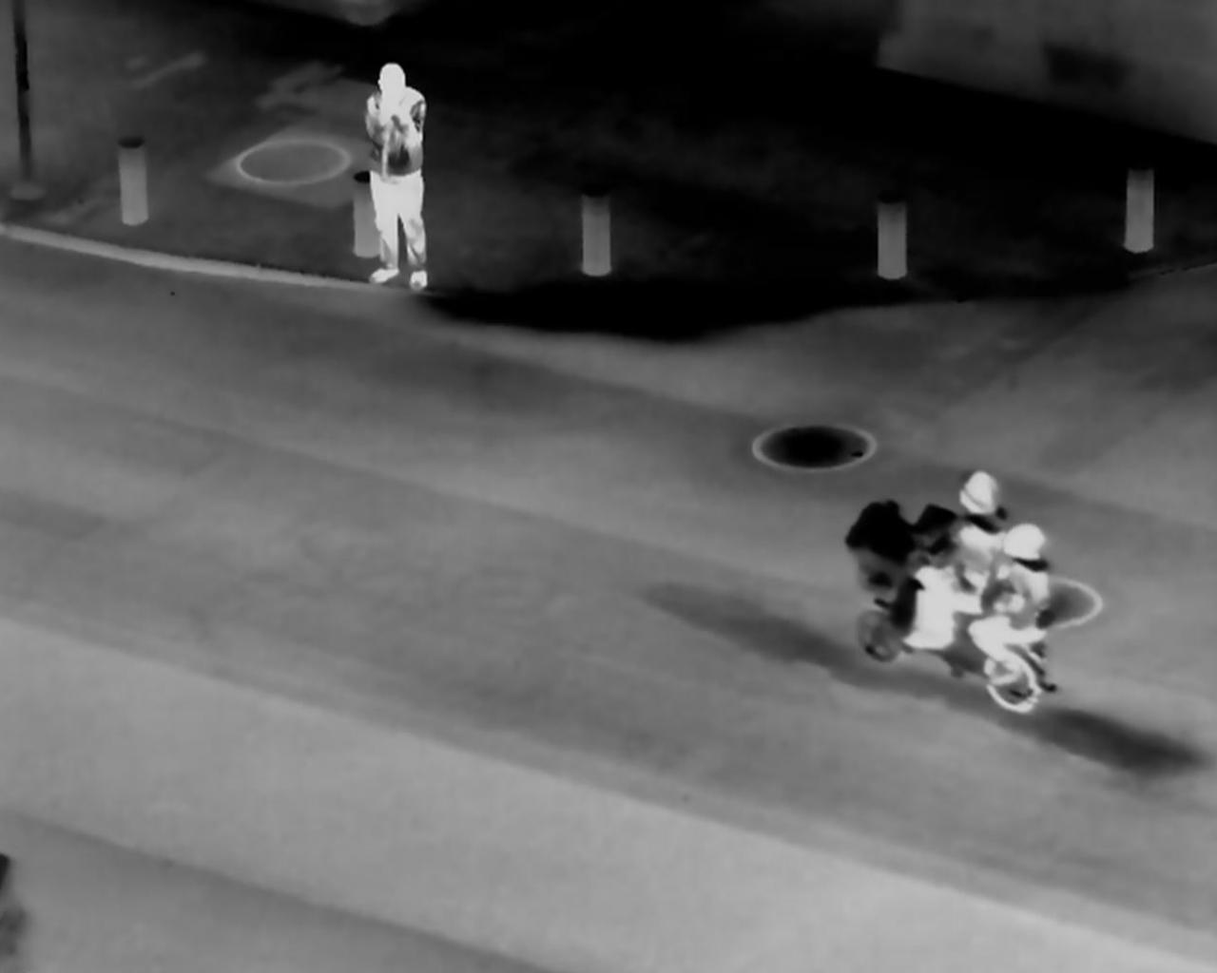person: (904, 458, 1006, 657), (357, 64, 442, 296), (984, 514, 1054, 661)
